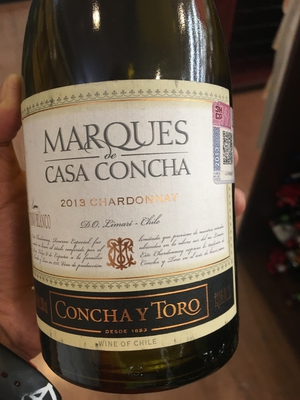marques de casa concha chardonnay: (22, 16, 243, 374)
